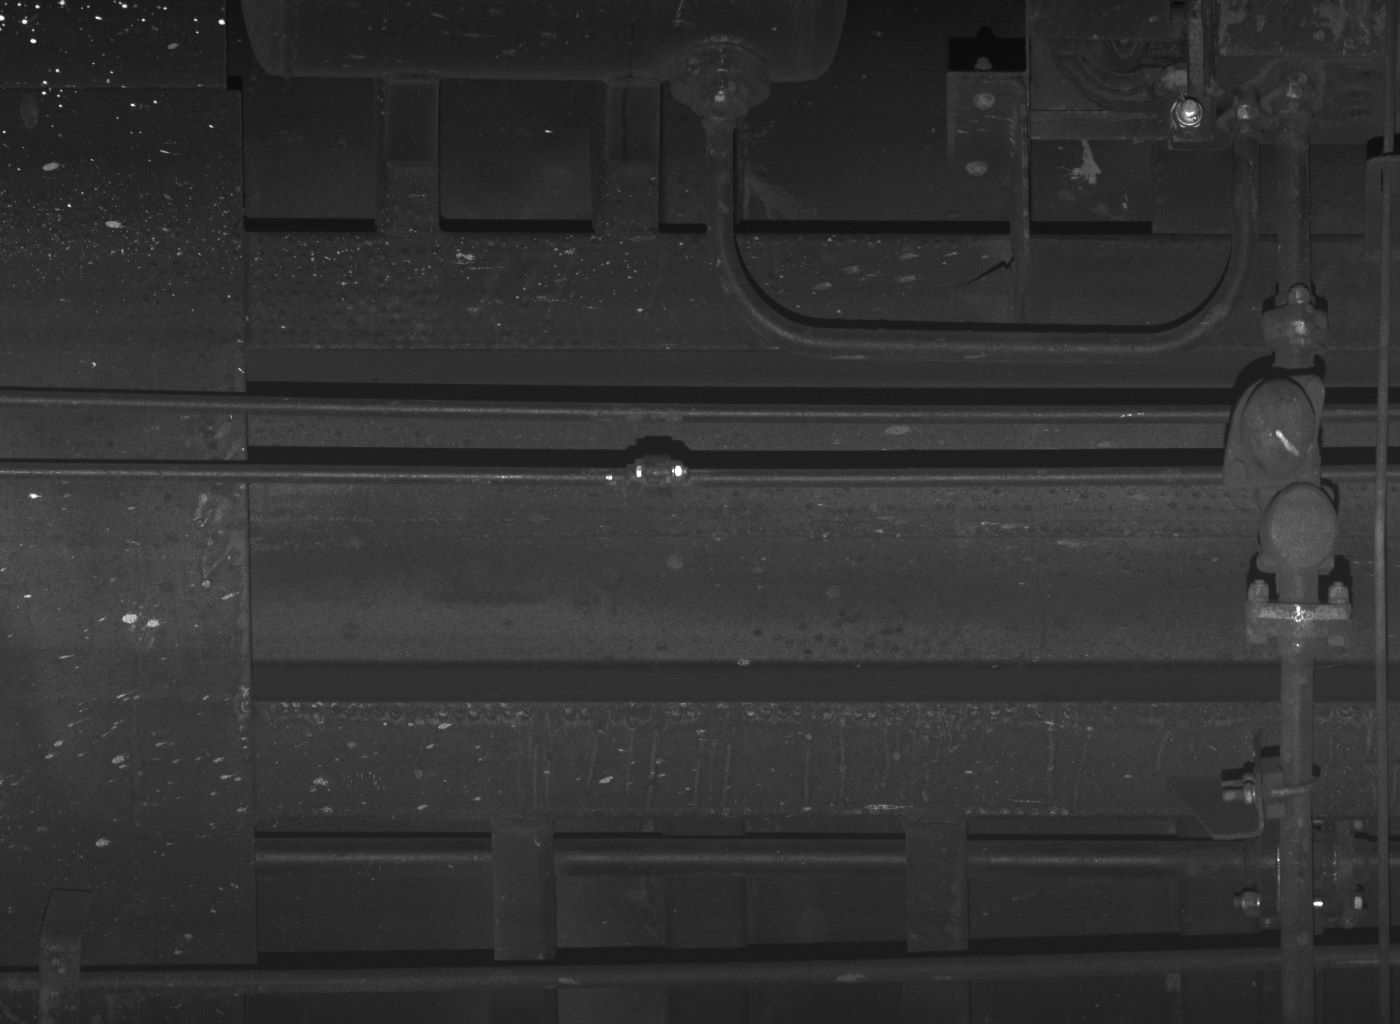normal: (1257, 483, 1339, 575)
